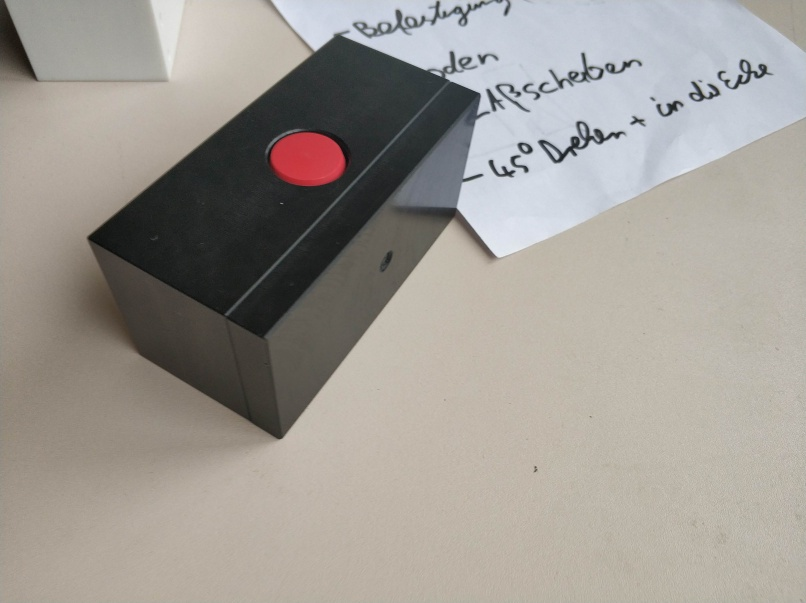black+black+red: (85, 33, 482, 443)
